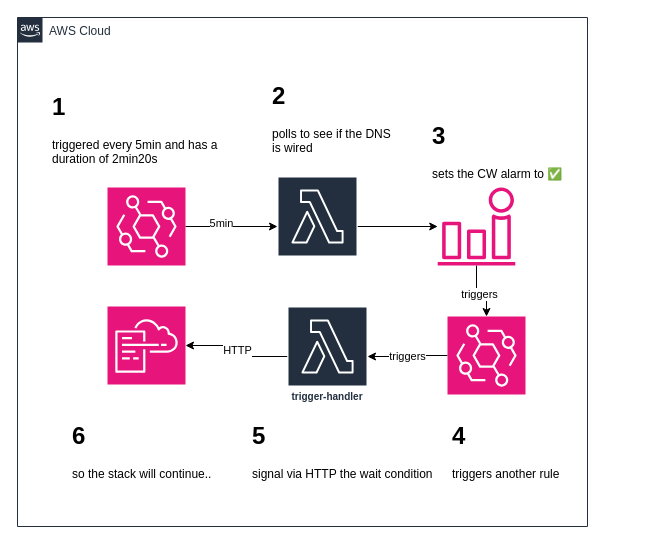
Some shapes in this 655 by 544 pixel diagram are drawn without their labels. The shapes that lost their labels are listed below. From the top down, each one's centre as x and y in pixels, then its label:
At pixel 317 226: "ready-handler".
At pixel 146 345: "CFN wait condition".
